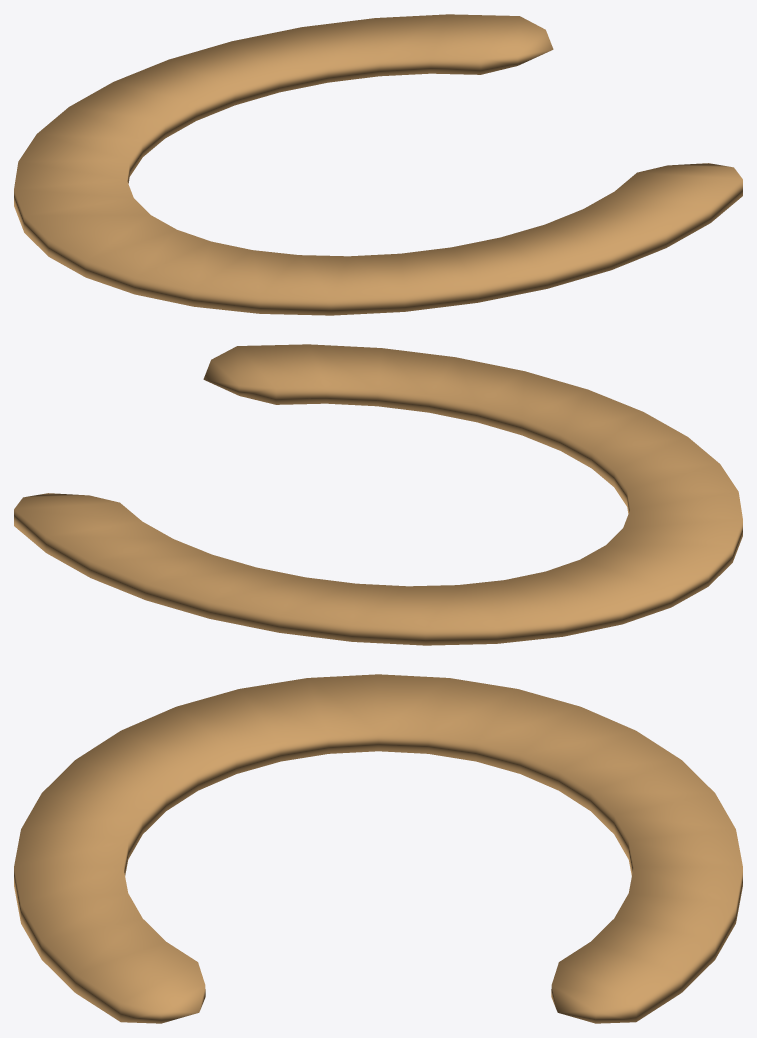
File: pieza3Nave.fbx
3 views of the same model, one above another, from view 1: azimuth 30°, elevation 25°; view 2: azimuth 150°, elevation 25°; view 3: azimuth 270°, elevation 25° (orthographic). The views are drawn at different scales.
Visible parts, largest first — view 1: Circle; view 2: Circle; view 3: Circle.
Part boxes in pixels (x1,y1,x2,y2): Circle: (14,14,742,315); Circle: (14,344,742,645); Circle: (14,674,742,1023).
Size of the model in its own units: 173 by 4.66 by 160.
